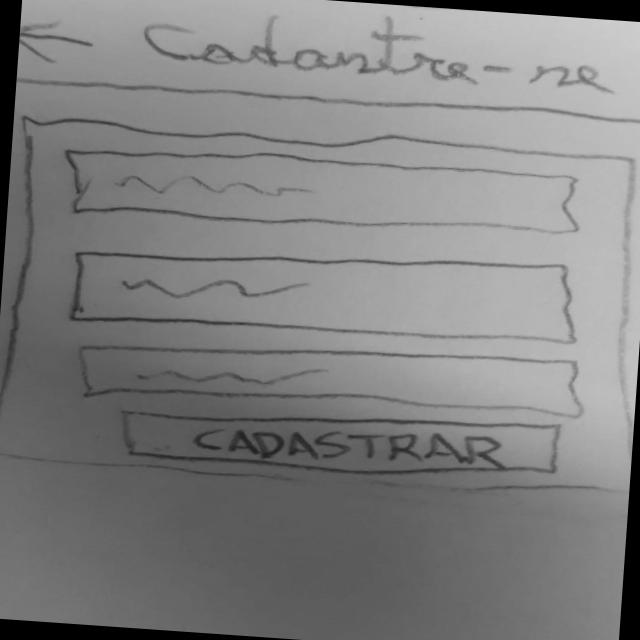button: (121, 396, 564, 486)
container: (0, 72, 640, 640), (0, 107, 640, 506)
icon-button: (18, 13, 108, 70)
input: (68, 230, 589, 356), (51, 137, 594, 250), (74, 326, 592, 426)
label: (136, 0, 630, 110)
